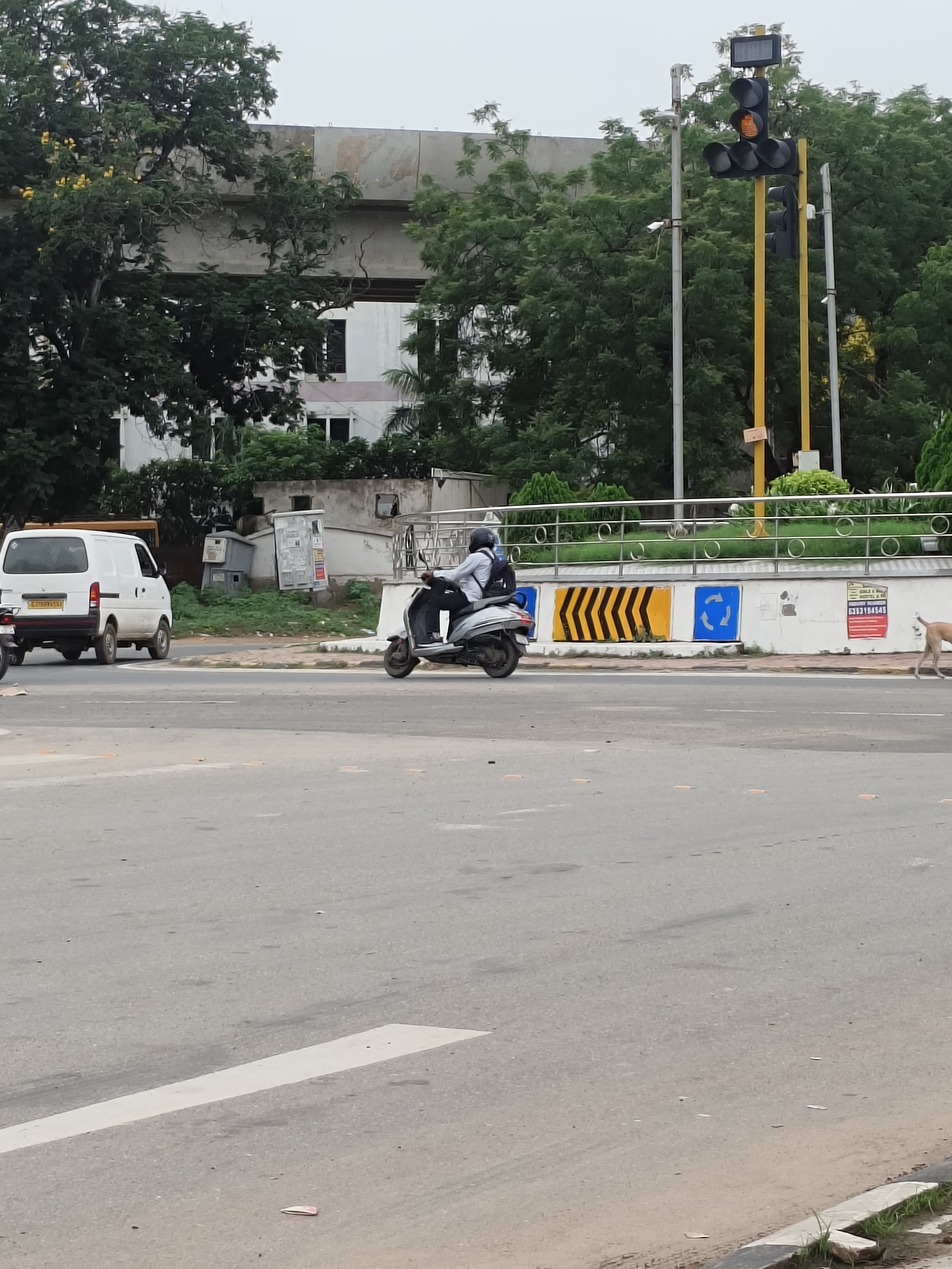BikeWithRider: (373, 518, 542, 685)
Helmet: (463, 523, 500, 559)
